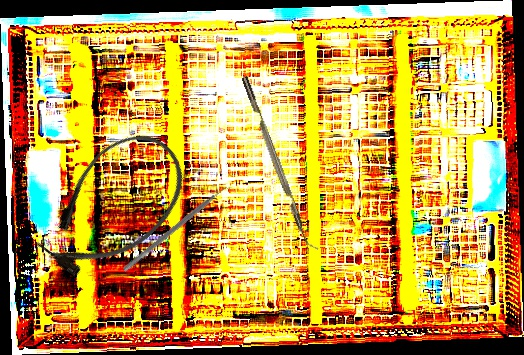Cannula: (20, 114, 205, 298)
Chopper: (241, 73, 320, 254)
Spatula Surgical: (122, 180, 234, 277)
